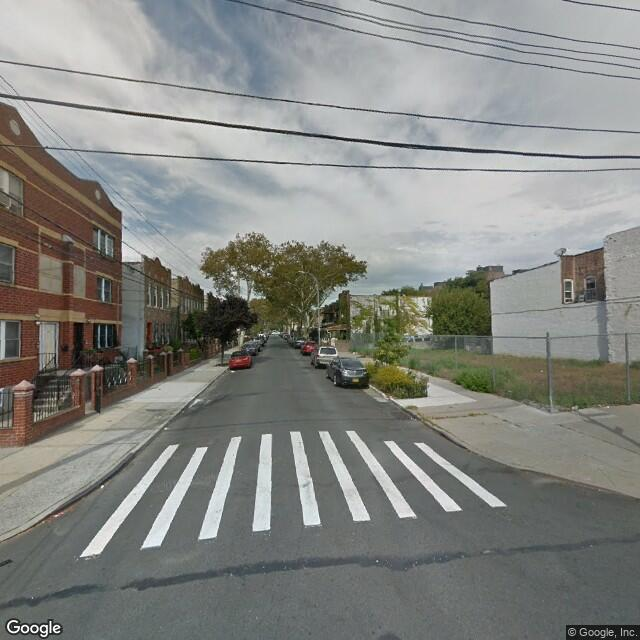litter: (598, 402, 613, 413), (567, 403, 580, 414), (161, 423, 169, 432), (54, 510, 63, 518), (101, 483, 105, 489), (232, 369, 236, 374)
